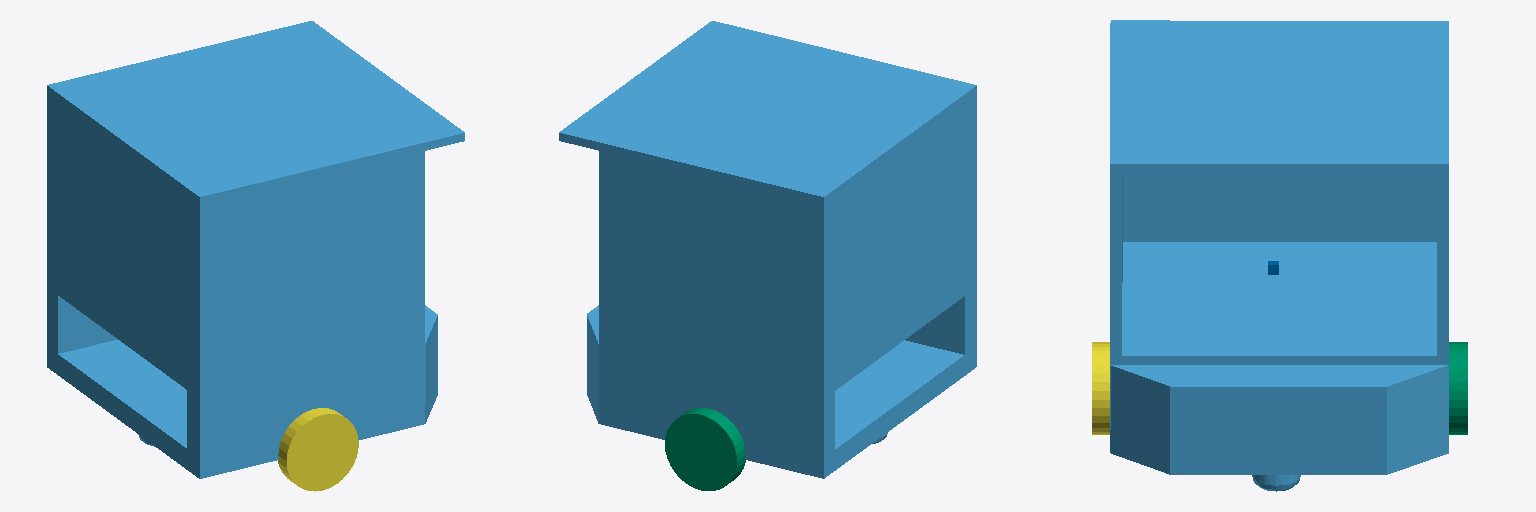
URDF robot description (bbot):
<?xml version="1.0" ?>
<!-- =================================================================================== -->
<!-- |    This document was autogenerated by xacro from design.xacro                   | -->
<!-- |    EDITING THIS FILE BY HAND IS NOT RECOMMENDED                                 | -->
<!-- =================================================================================== -->
<robot name="bbot" xmlns:xacro="http://www.ros.org/wiki/xacro">
  <!-- in kg-->
  <!-- 
    These properties must be observed by any machine
    that wants to be defined as a turtlebot. Refer
    to the REP for more details.
    
    http://www.ros.org/reps/rep-0119.html
   -->
  <link name="base_footprint"/>
  <!--visual>
        <geometry>
            <box size="0.00001 0.00001 0.00001"/>
        </geometry>      
        <origin xyz="0 0 0" rpy="0 0 0"/>
      </visual-->
  <!--collision> 
        <geometry>
            <box size="0.00001 0.00001 0.00001"/>
        </geometry>      
        <origin xyz="0 0 0" rpy="0 0 0"/>    
      </collision-->
  <joint name="base_joint" type="fixed">
    <origin rpy="0 0 0" xyz="0 0 0.0102"/>
    <parent link="base_footprint"/>
    <child link="base_link"/>
  </joint>
  <link name="base_link">
    <visual>
      <geometry>
        <!--box size="0.3 0.3 0.3"/-->
        <mesh filename="package://design_urdf/meshes/base_link.STL"/>
      </geometry>
      <origin rpy="0 0 1.57" xyz="-0.26 -0.2 -0.045"/>
    </visual>
    <collision>
      <geometry>
        <!--box size="0.3 0.3 0.3"/-->
        <mesh filename="package://design_urdf/meshes/base_link.STL"/>
      </geometry>
      <origin rpy="0 0 1.57" xyz="-0.26 -0.2 -0.045"/>
      <!--geometry>
            <box size="0.3 0.3 0.3"/>
        </geometry> 
        <origin xyz="0 0 0.1" rpy="0 0 0"/-->
    </collision>
    <inertial>
      <origin rpy="0 0 0" xyz="0 0 0"/>
      <mass value="3"/>
      <inertia ixx="0.019995" ixy="0.0" ixz="0.0" iyy="0.019995" iyz="0.0" izz="0.03675"/>
    </inertial>
  </link>
  <gazebo reference="base_link">
    <turnGravityOff>false</turnGravityOff>
  </gazebo>
  <!--fb : front, back ; lr: left, right -->
  <link name="front_left_wheel">
    <visual>
      <origin rpy="1.57079632679 0  0 " xyz="0 0 0"/>
      <geometry>
        <cylinder length="0.02" radius="0.045"/>
      </geometry>
      <material name="DarkGray"/>
    </visual>
    <collision>
      <origin rpy="1.57079632679 0 0 " xyz="0 0 0"/>
      <geometry>
        <cylinder length="0.02" radius="0.045"/>
      </geometry>
    </collision>
    <inertial>
      <mass value="0.8"/>
      <origin xyz="0 0 0"/>
      <inertia ixx="0.000431666666667" ixy="0" ixz="0" iyy="0.000431666666667" iyz="0" izz="0.00081"/>
    </inertial>
  </link>
  <gazebo reference="front_left_wheel">
    <mu1 value="1.0"/>
    <mu2 value="1.0"/>
    <kp value="10000000.0"/>
    <kd value="1.0"/>
    <fdir1 value="1 0 0"/>
    <material>Gazebo/Grey</material>
    <turnGravityOff>false</turnGravityOff>
  </gazebo>
  <joint name="front_left_wheel_joint" type="continuous">
    <parent link="base_link"/>
    <child link="front_left_wheel"/>
    <origin rpy="0 0 0" xyz="-0.0 0.17928 -0.03"/>
    <axis rpy="0 0 0" xyz="0 1 0"/>
    <limit effort="100" velocity="100"/>
    <joint_properties damping="0.0" friction="0.0"/>
  </joint>
  <!-- Transmission is important to link the joints and the controller -->
  <transmission name="front_left_wheel_joint_trans">
    <type>transmission_interface/SimpleTransmission</type>
    <joint name="front_left_wheel_joint"/>
    <actuator name="front_left_wheel_joint_motor">
      <hardwareInterface>EffortJointInterface</hardwareInterface>
      <mechanicalReduction>1</mechanicalReduction>
    </actuator>
  </transmission>
  <!--fb : front, back ; lr: left, right -->
  <link name="front_right_wheel">
    <visual>
      <origin rpy="1.57079632679 0  0 " xyz="0 0 0"/>
      <geometry>
        <cylinder length="0.02" radius="0.045"/>
      </geometry>
      <material name="DarkGray"/>
    </visual>
    <collision>
      <origin rpy="1.57079632679 0 0 " xyz="0 0 0"/>
      <geometry>
        <cylinder length="0.02" radius="0.045"/>
      </geometry>
    </collision>
    <inertial>
      <mass value="0.8"/>
      <origin xyz="0 0 0"/>
      <inertia ixx="0.000431666666667" ixy="0" ixz="0" iyy="0.000431666666667" iyz="0" izz="0.00081"/>
    </inertial>
  </link>
  <gazebo reference="front_right_wheel">
    <mu1 value="1.0"/>
    <mu2 value="1.0"/>
    <kp value="10000000.0"/>
    <kd value="1.0"/>
    <fdir1 value="1 0 0"/>
    <material>Gazebo/Grey</material>
    <turnGravityOff>false</turnGravityOff>
  </gazebo>
  <joint name="front_right_wheel_joint" type="continuous">
    <parent link="base_link"/>
    <child link="front_right_wheel"/>
    <origin rpy="0 0 0" xyz="-0.0 -0.16683 -0.03"/>
    <axis rpy="0 0 0" xyz="0 1 0"/>
    <limit effort="100" velocity="100"/>
    <joint_properties damping="0.0" friction="0.0"/>
  </joint>
  <!-- Transmission is important to link the joints and the controller -->
  <transmission name="front_right_wheel_joint_trans">
    <type>transmission_interface/SimpleTransmission</type>
    <joint name="front_right_wheel_joint"/>
    <actuator name="front_right_wheel_joint_motor">
      <hardwareInterface>EffortJointInterface</hardwareInterface>
      <mechanicalReduction>1</mechanicalReduction>
    </actuator>
  </transmission>
  <link name="imu_link">
    <visual>
      <geometry>
        <box size="0.01 0.01 0.01"/>
      </geometry>
      <origin xyz="0 0 0"/>
    </visual>
    <collision>
      <geometry>
        <box size="0.01 0.01 0.01"/>
      </geometry>
      <origin xyz="0 0 0.1"/>
    </collision>
    <inertial>
      <origin rpy="0 0 0" xyz="0 0 0"/>
      <mass value="0.01"/>
      <inertia ixx="0.001" ixy="0.0" ixz="0.0" iyy="0.001" iyz="0.0" izz="0.001"/>
    </inertial>
  </link>
  <joint name="imu_joint" type="fixed">
    <origin rpy="0 0 0" xyz="0 0 0.1"/>
    <parent link="base_link"/>
    <child link="imu_link"/>
  </joint>
  <gazebo reference="imu_link">
    <gravity>true</gravity>
    <sensor name="imu_sensor" type="imu">
      <alwaysOn>true</alwaysOn>
      <update_rate>100</update_rate>
      <visualize>true</visualize>
      <topic>__default_topic__</topic>
      <plugin filename="libgazebo_ros_imu_sensor.so" name="imu_plugin">
        <!--alwaysOn>true</alwaysOn-->
        <bodyName>imu_link</bodyName>
        <frameName>imu_link</frameName>
        <topicName>imu</topicName>
        <!--serviceName>imu_service</serviceName-->
        <gaussianNoise>0.01</gaussianNoise>
        <updateRateHZ>10</updateRateHZ>
        <xyzOffset>0 0 0</xyzOffset>
        <rpyOffset>0 0 0</rpyOffset>
        <initialOrientationAsReference>false</initialOrientationAsReference>
      </plugin>
      <pose>0 0 0 0 0 0</pose>
    </sensor>
  </gazebo>
  <gazebo>
    <plugin filename="libgazebo_ros_diff_drive.so" name="differential_drive_controller">
      <rosDebugLevel>Debug</rosDebugLevel>
      <publishWheelTF>false</publishWheelTF>
      <robotNamespace/>
      <publishTf>1</publishTf>
      <publishOdomTF>true</publishOdomTF>
      <publishWheelJointState>true</publishWheelJointState>
      <alwaysOn>true</alwaysOn>
      <updateRate>100.0</updateRate>
      <leftJoint>front_left_wheel_joint</leftJoint>
      <rightJoint>front_right_wheel_joint</rightJoint>
      <wheelSeparation>0.3</wheelSeparation>
      <wheelDiameter>0.09</wheelDiameter>
      <broadcastTF>1</broadcastTF>
      <wheelTorque>30</wheelTorque>
      <wheelAcceleration>1.8</wheelAcceleration>
      <commandTopic>cmd_vel</commandTopic>
      <odometryFrame>odom</odometryFrame>
      <odometryTopic>odom</odometryTopic>
      <odometrySource>1</odometrySource>
      <publishOdom>true</publishOdom>
      <robotBaseFrame>base_link</robotBaseFrame>
      <legacyMode>true</legacyMode>
    </plugin>
  </gazebo>
  <joint name="camera_rgb_joint" type="fixed">
    <origin rpy="0 0 0" xyz="-0.087 -0.0125 0.287"/>
    <parent link="base_link"/>
    <child link="camera_rgb_frame"/>
  </joint>
  <link name="camera_rgb_frame">
    <inertial>
      <mass value="0.001"/>
      <origin xyz="0 0 0"/>
      <inertia ixx="0.0001" ixy="0.0" ixz="0.0" iyy="0.0001" iyz="0.0" izz="0.0001"/>
    </inertial>
  </link>
  <joint name="camera_rgb_optical_joint" type="fixed">
    <origin rpy="-1.57079632679 0 -1.57079632679" xyz="0 0 0"/>
    <parent link="camera_rgb_frame"/>
    <child link="camera_rgb_optical_frame"/>
  </joint>
  <link name="camera_rgb_optical_frame">
    <inertial>
      <mass value="0.001"/>
      <origin xyz="0 0 0"/>
      <inertia ixx="0.0001" ixy="0.0" ixz="0.0" iyy="0.0001" iyz="0.0" izz="0.0001"/>
    </inertial>
  </link>
  <joint name="camera_joint" type="fixed">
    <origin rpy="0 0 0" xyz="-0.031 0.0125 -0.016"/>
    <parent link="camera_rgb_frame"/>
    <child link="camera_link"/>
  </joint>
  <link name="camera_link">
    <visual>
      <origin rpy="0 0 1.57079632679" xyz="0 0 0.1"/>
      <geometry>
        <mesh filename="package://design_urdf/meshes/kinect.dae"/>
      </geometry>
    </visual>
    <collision>
      <origin rpy="0 0 0" xyz="0.0 0.0 0.1"/>
      <geometry>
        <box size="0.07271 0.27794 0.073"/>
      </geometry>
    </collision>
    <inertial>
      <mass value="0.001"/>
      <origin xyz="0 0 0"/>
      <inertia ixx="0.0001" ixy="0.0" ixz="0.0" iyy="0.0001" iyz="0.0" izz="0.0001"/>
    </inertial>
  </link>
  <!-- The fixed joints & links below are usually published by static_transformers launched by the OpenNi launch 
       files. However, for Gazebo simulation we need them, so we add them here.
       (Hence, don't publish them additionally!) -->
  <joint name="camera_depth_joint" type="fixed">
    <origin rpy="0 0 0" xyz="0 0.025 0"/>
    <parent link="camera_rgb_frame"/>
    <child link="camera_depth_frame"/>
  </joint>
  <link name="camera_depth_frame">
    <inertial>
      <mass value="0.001"/>
      <origin xyz="0 0 0"/>
      <inertia ixx="0.0001" ixy="0.0" ixz="0.0" iyy="0.0001" iyz="0.0" izz="0.0001"/>
    </inertial>
  </link>
  <joint name="camera_depth_optical_joint" type="fixed">
    <origin rpy="-1.57079632679 0 -1.57079632679" xyz="0 0 0"/>
    <parent link="camera_depth_frame"/>
    <child link="camera_depth_optical_frame"/>
  </joint>
  <link name="camera_depth_optical_frame">
    <inertial>
      <mass value="0.001"/>
      <origin xyz="0 0 0"/>
      <inertia ixx="0.0001" ixy="0.0" ixz="0.0" iyy="0.0001" iyz="0.0" izz="0.0001"/>
    </inertial>
  </link>
  <gazebo reference="camera_link">
    <sensor name="camera" type="depth">
      <always_on>true</always_on>
      <update_rate>20.0</update_rate>
      <camera>
        <horizontal_fov>1.0471975512</horizontal_fov>
        <image>
          <format>R8G8B8</format>
          <width>640</width>
          <height>480</height>
        </image>
        <clip>
          <near>0.05</near>
          <far>8.0</far>
        </clip>
      </camera>
      <plugin filename="libgazebo_ros_openni_kinect.so" name="kinect_camera_controller">
        <cameraName>camera</cameraName>
        <alwaysOn>true</alwaysOn>
        <updateRate>10</updateRate>
        <imageTopicName>rgb/image_raw</imageTopicName>
        <depthImageTopicName>depth/image_raw</depthImageTopicName>
        <pointCloudTopicName>depth/points</pointCloudTopicName>
        <cameraInfoTopicName>rgb/camera_info</cameraInfoTopicName>
        <depthImageCameraInfoTopicName>depth/camera_info</depthImageCameraInfoTopicName>
        <frameName>camera_depth_optical_frame</frameName>
        <baseline>0.1</baseline>
        <distortion_k1>0.0</distortion_k1>
        <distortion_k2>0.0</distortion_k2>
        <distortion_k3>0.0</distortion_k3>
        <distortion_t1>0.0</distortion_t1>
        <distortion_t2>0.0</distortion_t2>
        <pointCloudCutoff>0.4</pointCloudCutoff>
      </plugin>
    </sensor>
  </gazebo>
</robot>

--- Render facts (derived) ---
Views: 3 orthographic renders of the robot side by side, from view 1: azimuth 30°, elevation 25°; view 2: azimuth 150°, elevation 25°; view 3: azimuth 270°, elevation 25°.
Robot: bbot — 10 links, 9 joints (2 continuous, 7 fixed); root link base_footprint; default pose: all joints at 0.
Links seen in each view (by area): view 1: base_link, front_right_wheel; view 2: base_link, front_left_wheel; view 3: base_link, front_left_wheel, front_right_wheel.
Boxes of the visible links, x1=… form: base_link: x1=47, y1=21, x2=464, y2=478; front_right_wheel: x1=278, y1=408, x2=358, y2=491; base_link: x1=559, y1=21, x2=976, y2=478; front_left_wheel: x1=665, y1=408, x2=745, y2=490; base_link: x1=1110, y1=20, x2=1448, y2=491; front_left_wheel: x1=1449, y1=342, x2=1467, y2=434; front_right_wheel: x1=1092, y1=342, x2=1109, y2=434.
Bounding box of the posed robot: 0.3303 × 0.3661 × 0.3745 m (x, y, z).
1 mesh visuals loaded from 2 distinct referenced files (1 binary STL); not drawn: 1 (reference not matched to a file when rendering).